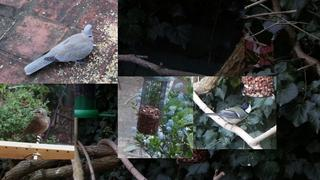collared dove: (24, 24, 94, 75)
great tit: (202, 100, 252, 130)
starling: (18, 108, 50, 143)
